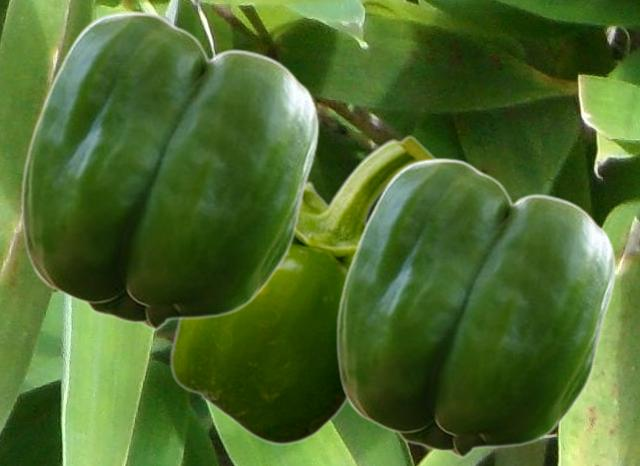bell_pepper: (20, 10, 318, 329), (335, 157, 615, 457), (169, 135, 437, 445)
